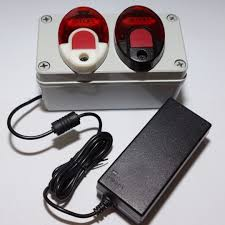bell: (56, 5, 112, 75)
